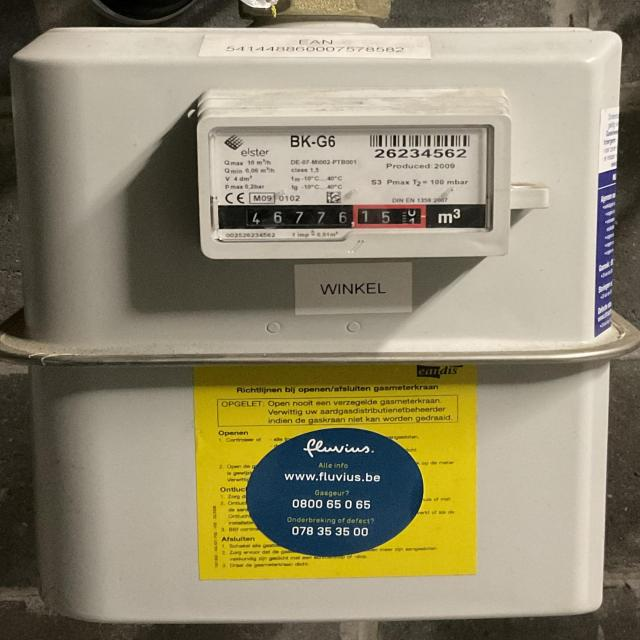gaz_meter: (208, 126, 496, 235)
indication: (221, 202, 429, 229)
